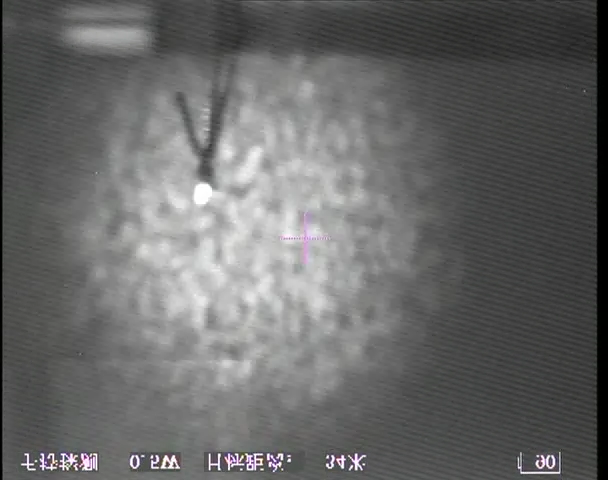my: (191, 181, 213, 206)
